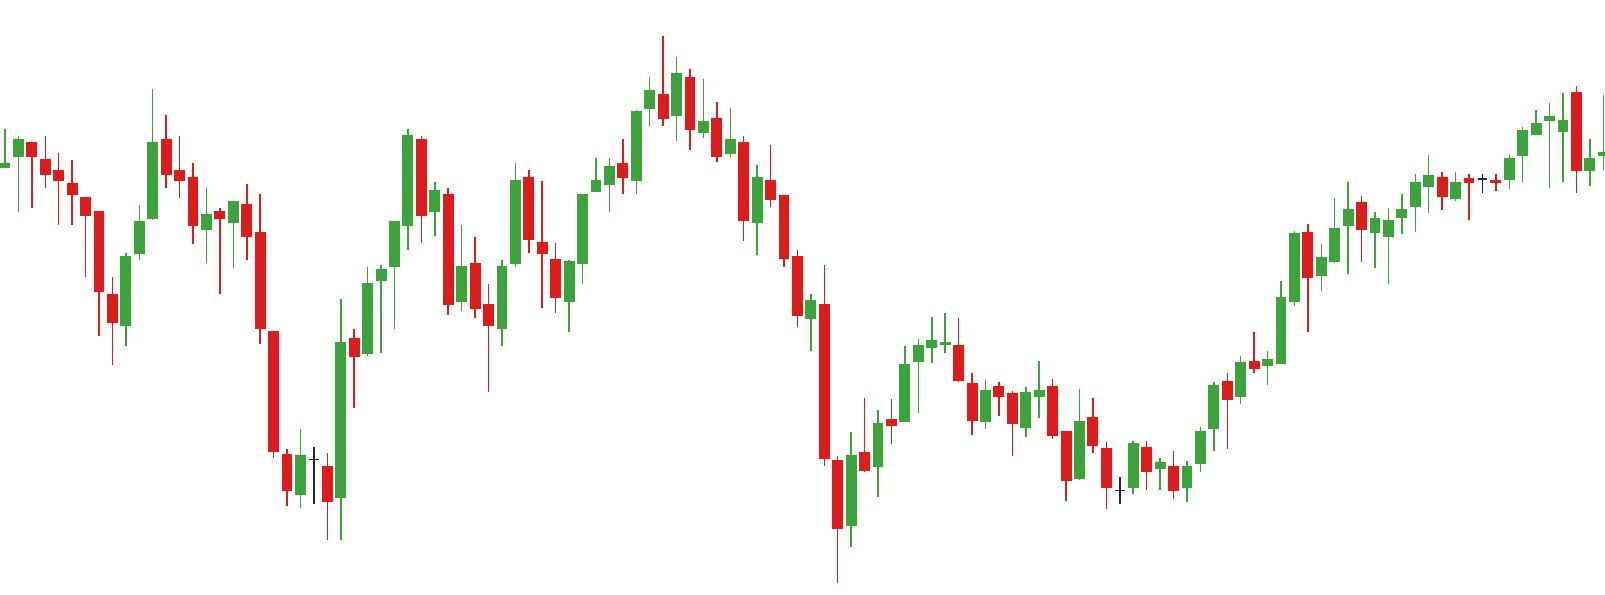sell: (240, 129, 427, 293), (41, 90, 172, 252)
